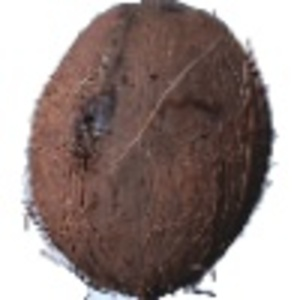coco: (22, 1, 277, 300)
